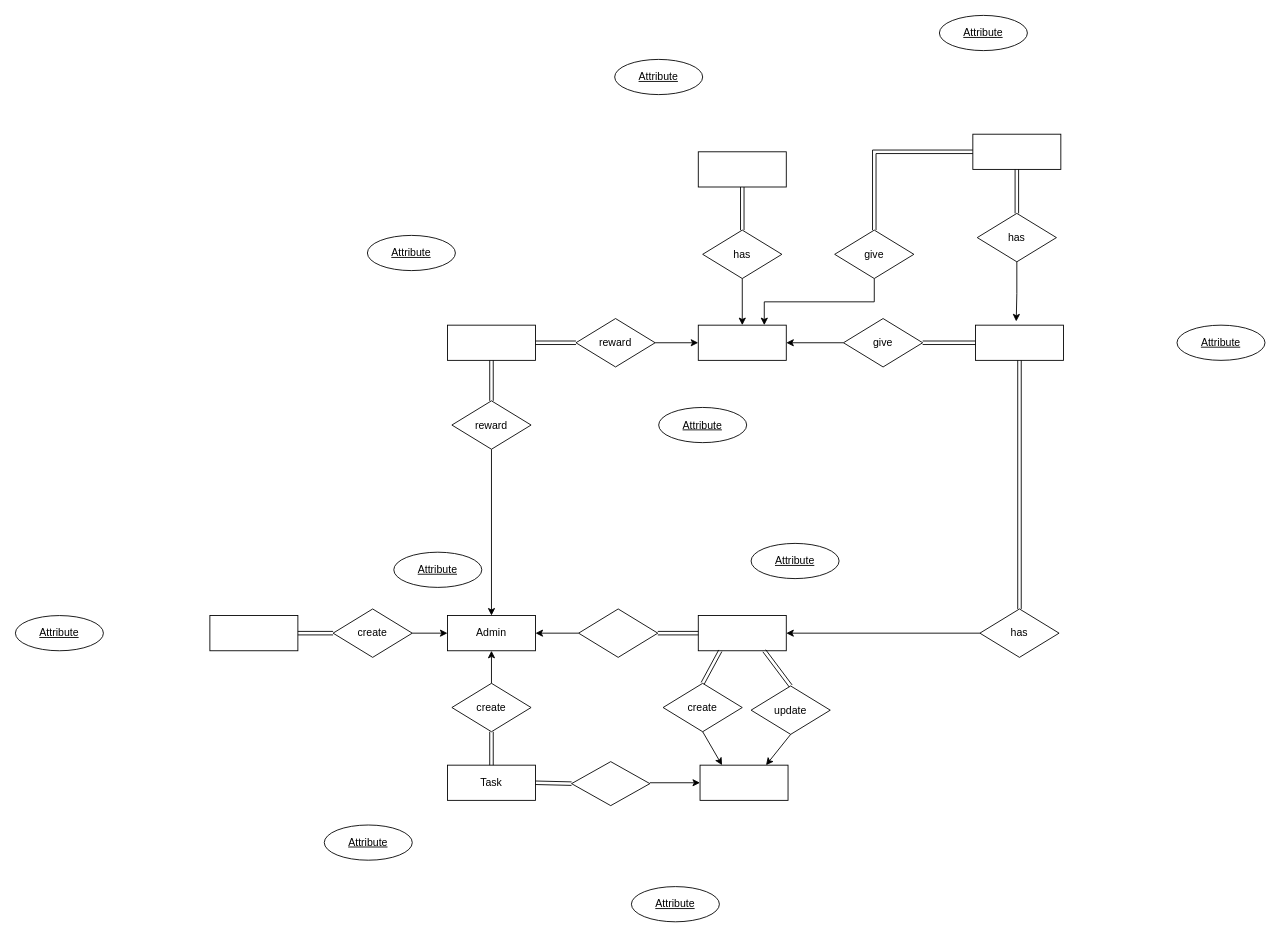
Image size: 1280x937. Some labels were removed from this diagram. Each missing label, with the centre of its shape:
Article: (741,633)
assigned to: (610,783)
Badge: (491,342)
Comment: (1019,342)
Moderator: (743,782)
Question: (253,633)
Reply: (1016,151)
review: (618,632)
Survey Record: (741,169)
User: (741,342)
